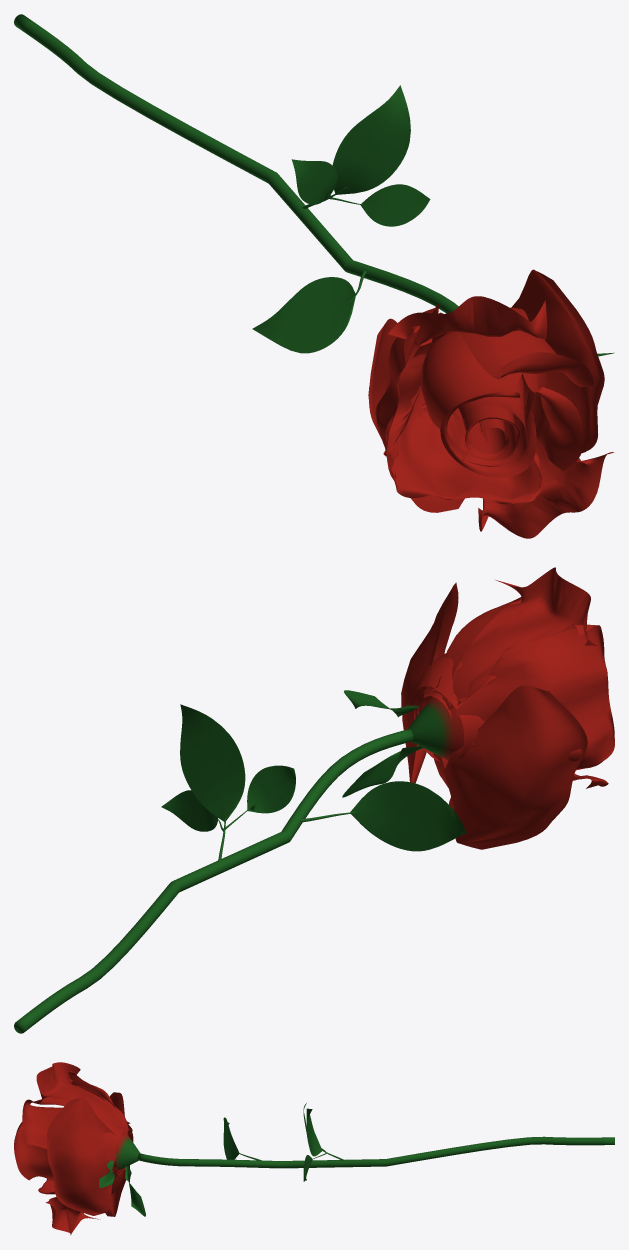
File: Atirgul.fbx
The picture shows the model from 3 angles, top to bottom: view 1: azimuth 30°, elevation 25°; view 2: azimuth 150°, elevation 25°; view 3: azimuth 270°, elevation 25°; orthographic projection. The views are drawn at different scales.
Visible parts, largest first — view 1: AnyConv.com__rose--red; view 2: AnyConv.com__rose--red, Cone; view 3: AnyConv.com__rose--red, Cone.
Part boxes in pixels (x1,y1,x2,y2): AnyConv.com__rose--red: (14,14,614,538); AnyConv.com__rose--red: (14,567,614,1033); Cone: (408,691,485,760); AnyConv.com__rose--red: (14,1062,614,1235); Cone: (115,1134,140,1170).
Bounding box in the file's own units: 14517 × 14563 × 52914.
Materials: 3 (3 with a texture image).
